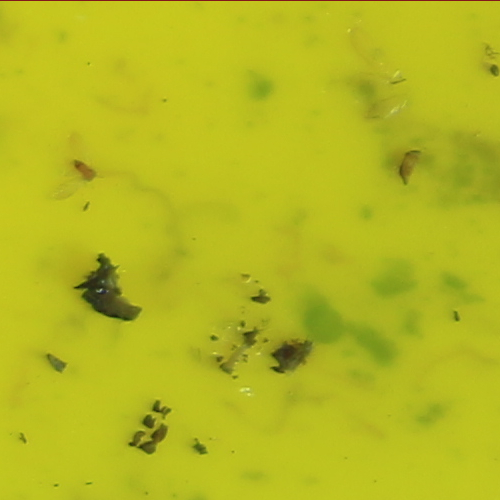psylla: (67, 156, 101, 183)
